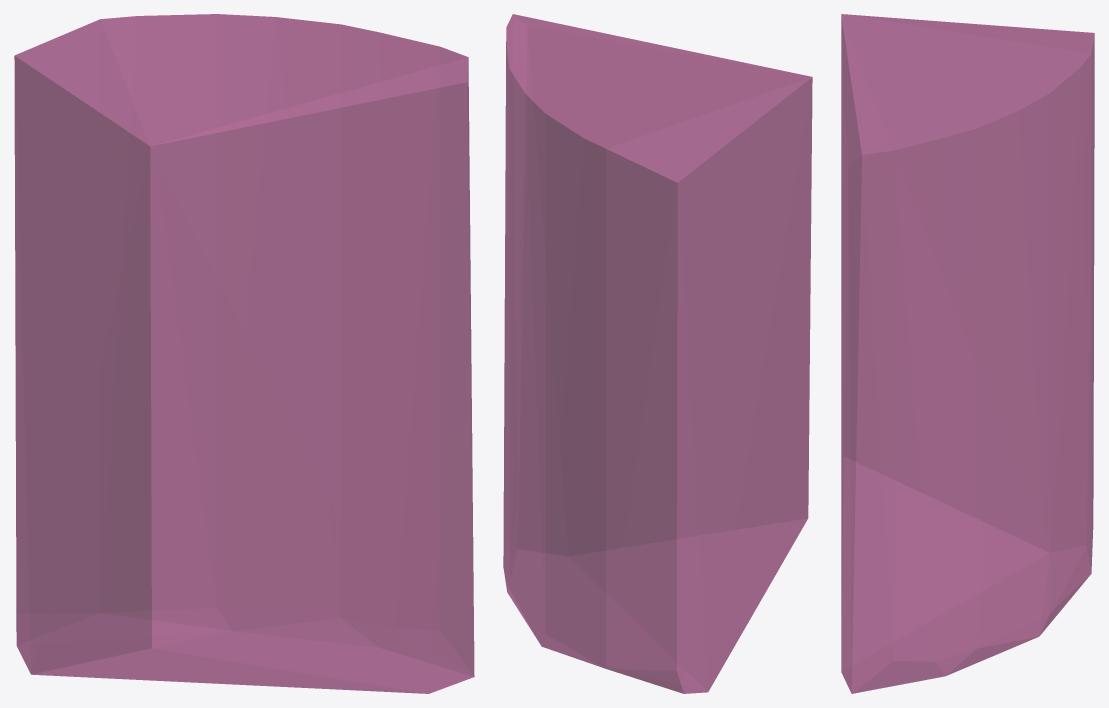
3 views of the same model, side by side, from view 1: azimuth 30°, elevation 25°; view 2: azimuth 150°, elevation 25°; view 3: azimuth 270°, elevation 25° (orthographic). The views are drawn at different scales.
Parts seen in each view (by area): view 1: Shape_IndexedFaceSet.007_Shape_IndexedFaceSet.1758; view 2: Shape_IndexedFaceSet.007_Shape_IndexedFaceSet.1758; view 3: Shape_IndexedFaceSet.007_Shape_IndexedFaceSet.1758.
Boxes of the visible parts, x1,y1,x2,y2 form: Shape_IndexedFaceSet.007_Shape_IndexedFaceSet.1758: (14, 14, 474, 693); Shape_IndexedFaceSet.007_Shape_IndexedFaceSet.1758: (503, 14, 812, 693); Shape_IndexedFaceSet.007_Shape_IndexedFaceSet.1758: (841, 14, 1094, 693).
Size of the model in its own units: 0.1154 by 0.2055 by 0.0877.
